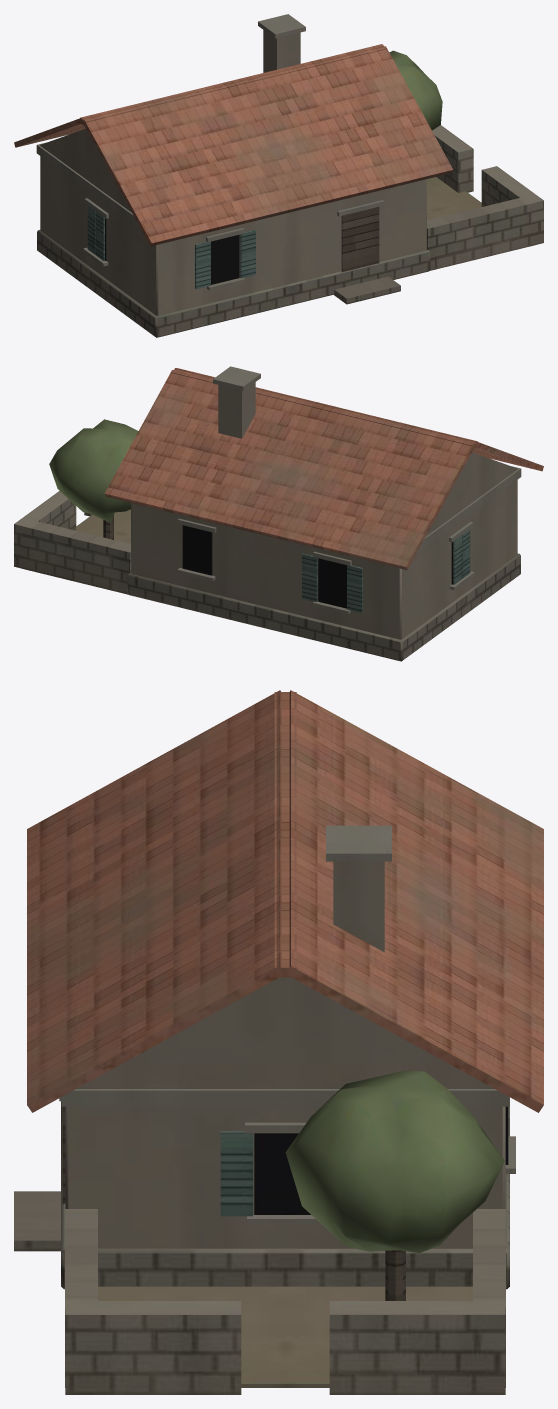
Rendered from a15_house_4.glb.
The picture shows the model from 3 angles, top to bottom: view 1: azimuth 30°, elevation 25°; view 2: azimuth 150°, elevation 25°; view 3: azimuth 270°, elevation 25°; orthographic projection. The views are drawn at different scales.
Parts seen in each view (by area): view 1: body; view 2: body; view 3: body.
Part boxes in pixels (left/top/right/bottom): body: left=14, top=14, right=543, bottom=337; body: left=14, top=366, right=543, bottom=661; body: left=14, top=690, right=543, bottom=1394.
Size of the model in its own units: 1 by 0.4901 by 0.6082.
Materials: 1 (1 with a texture image).
